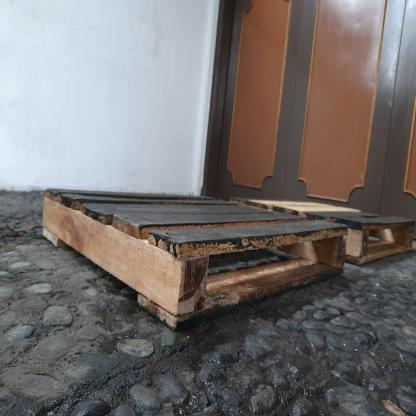Wooden-Pallet: (40, 185, 345, 326), (272, 201, 415, 261)
